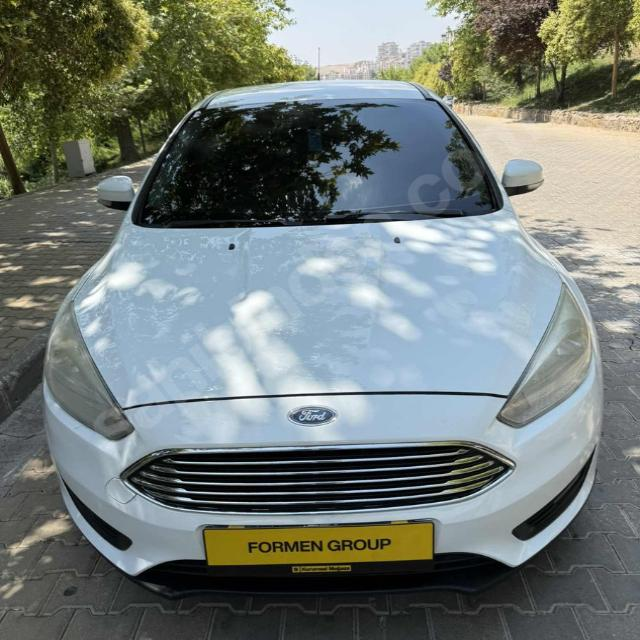ford: (284, 396, 338, 430)
